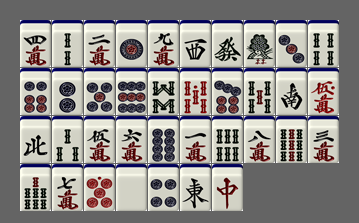0m: (308, 68, 339, 115)
0p: (84, 164, 115, 211)
0s: (180, 68, 211, 115)
1m: (180, 116, 211, 163)
1p: (116, 20, 147, 67)
1s: (244, 20, 275, 67)
1z: (180, 164, 211, 211)
2m: (84, 20, 115, 67)
2p: (52, 68, 83, 115)
2s: (52, 20, 83, 67)
2z: (276, 68, 307, 115)
3m: (308, 116, 339, 163)
3p: (276, 20, 307, 67)
3s: (52, 116, 83, 163)
3z: (180, 20, 211, 67)
4m: (20, 20, 51, 67)
4p: (148, 164, 179, 211)
4s: (308, 20, 339, 67)
4z: (20, 116, 51, 163)
5m: (84, 116, 115, 163)
5p: (84, 68, 115, 115)
5s: (244, 68, 275, 115)
5z: (116, 164, 147, 211)
6m: (116, 116, 147, 163)
6p: (20, 68, 51, 115)
6s: (212, 116, 243, 163)
6z: (212, 20, 243, 67)
7m: (52, 164, 83, 211)
7p: (212, 68, 243, 115)
7s: (20, 164, 51, 211)
7z: (212, 164, 243, 211)
8m: (244, 116, 275, 163)
8p: (148, 116, 179, 163)
8s: (148, 68, 179, 115)
9m: (148, 20, 179, 67)
9p: (116, 68, 147, 115)
9s: (276, 116, 307, 163)
